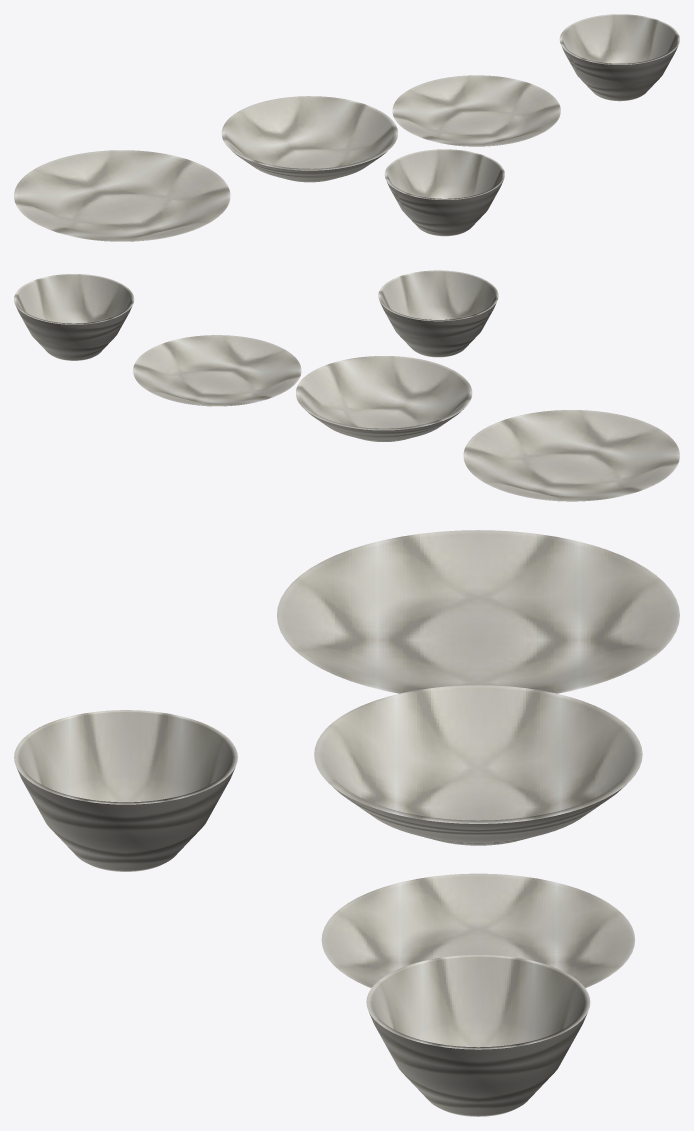
Rendered from RAY-02.glb.
The picture shows the model from 3 angles, top to bottom: view 1: azimuth 30°, elevation 25°; view 2: azimuth 150°, elevation 25°; view 3: azimuth 270°, elevation 25°; orthographic projection. The views are drawn at different scales.
Bounding box in the file's own units: 0.926 × 0.07 × 0.446.
10 materials, 10 textured.
